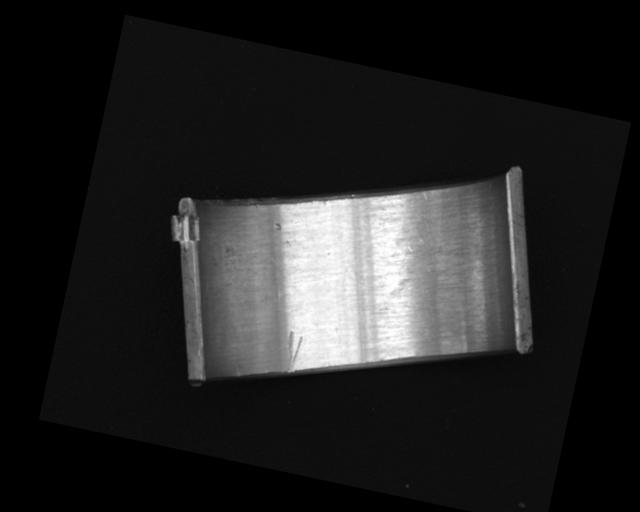bruise: (271, 220, 283, 232)
nick: (279, 330, 306, 374), (232, 364, 242, 378)
